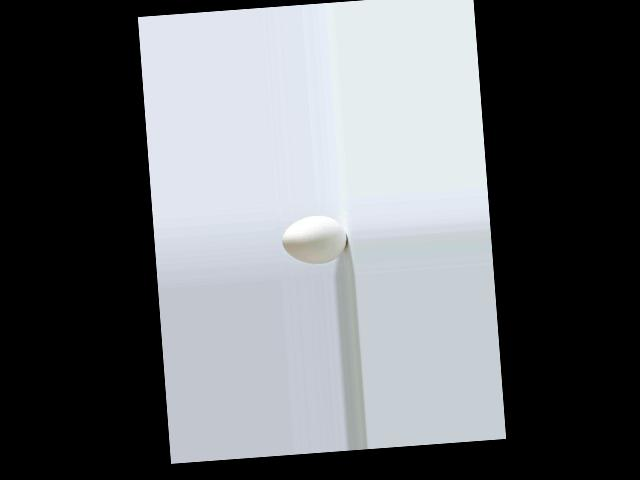egg: (280, 213, 348, 265)
